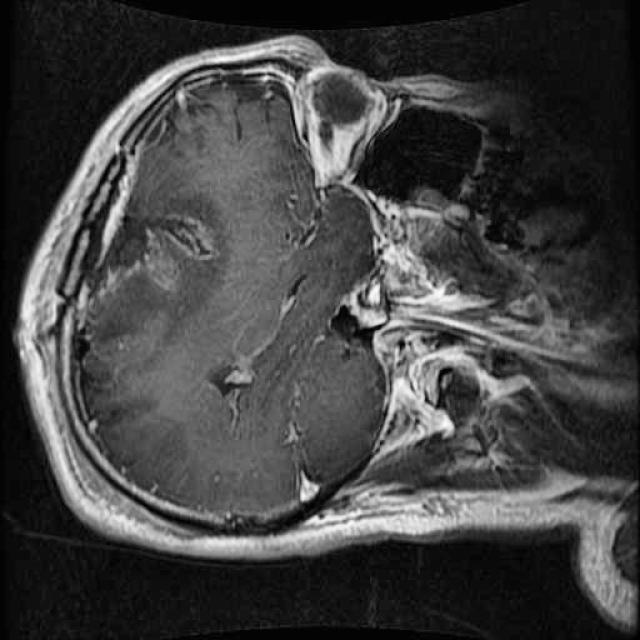Tumor: (52, 156, 258, 348)
